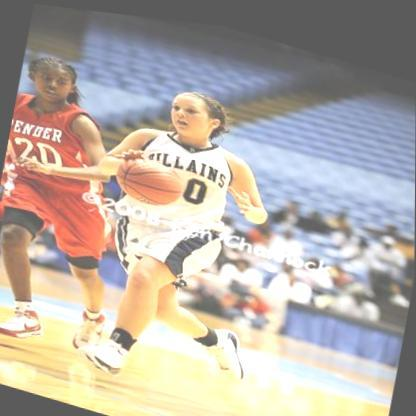basketball: (114, 144, 186, 209)
